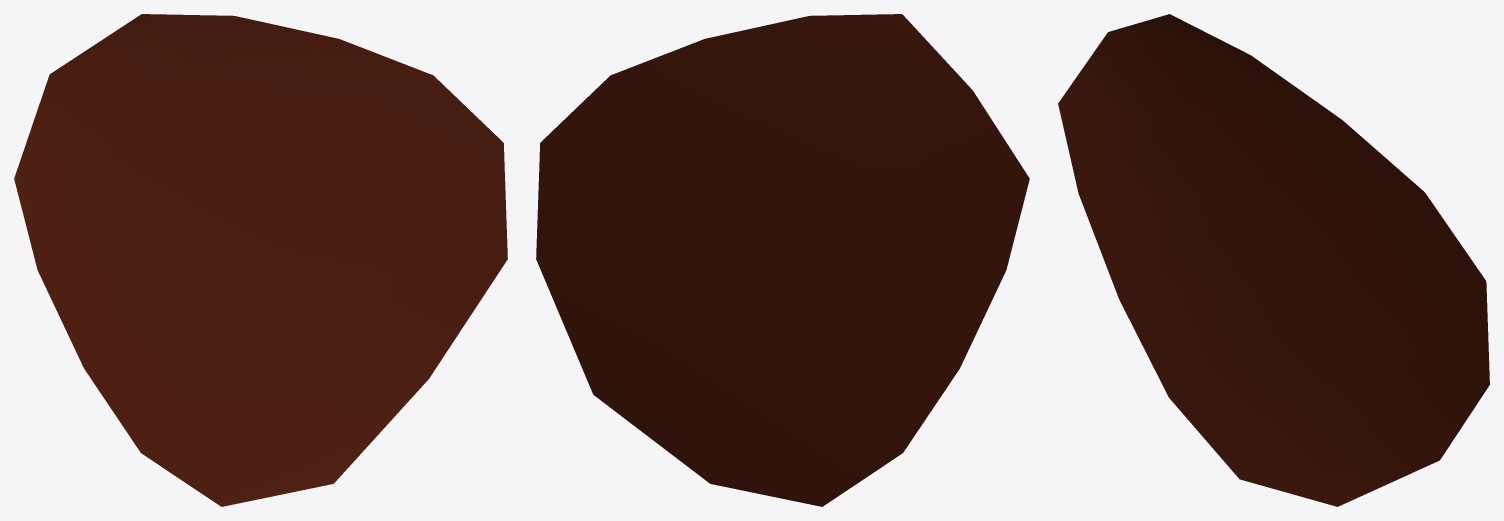
Rendered from finch_feather_flight_tertiary_059.obj.
3 views of the same model, side by side, from view 1: azimuth 30°, elevation 25°; view 2: azimuth 150°, elevation 25°; view 3: azimuth 330°, elevation 25° (orthographic). The views are drawn at different scales.
Visible parts, largest first — view 1: feather_flight_tertiary_059; view 2: feather_flight_tertiary_059; view 3: feather_flight_tertiary_059.
Boxes of the visible parts, x1=… form: feather_flight_tertiary_059: x1=14, y1=14, x2=507, y2=506; feather_flight_tertiary_059: x1=536, y1=14, x2=1029, y2=506; feather_flight_tertiary_059: x1=1058, y1=14, x2=1489, y2=506.
Bounding box in the file's own units: 0.00403 × 0.00403 × 0.000153.
